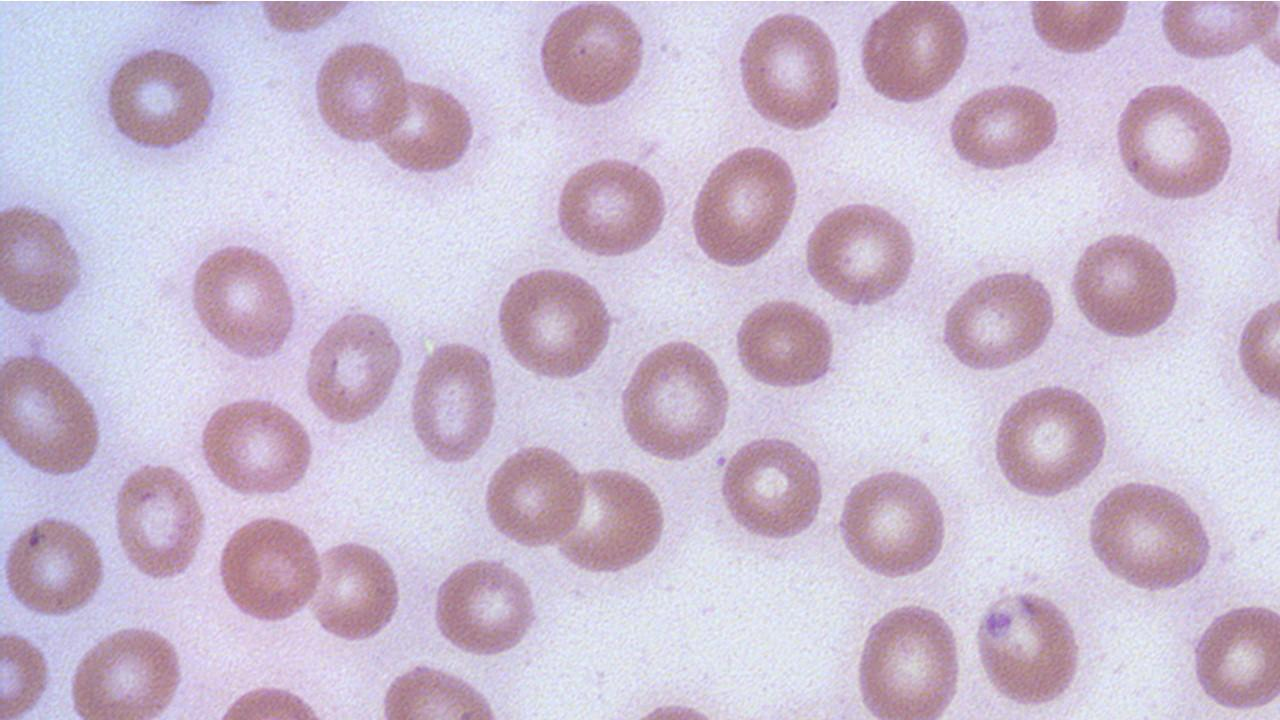RBC: (1083, 477, 1219, 594), (1110, 80, 1238, 204), (970, 582, 1088, 712), (617, 333, 732, 465), (184, 234, 300, 364), (686, 140, 800, 272), (733, 8, 848, 138), (989, 381, 1113, 501), (494, 262, 616, 383), (850, 596, 968, 718), (834, 464, 950, 584), (1065, 227, 1185, 343), (0, 349, 106, 480), (99, 42, 222, 154), (550, 462, 670, 576), (800, 197, 922, 309), (938, 263, 1060, 374), (534, 1, 653, 111), (550, 153, 670, 262), (196, 393, 318, 500), (854, 1, 974, 109), (302, 305, 406, 429), (716, 431, 828, 545), (214, 512, 326, 626), (64, 620, 188, 718), (428, 554, 542, 660), (112, 458, 208, 582), (480, 442, 588, 552), (408, 336, 500, 465), (0, 512, 109, 620), (308, 36, 412, 149), (370, 73, 479, 177), (946, 78, 1064, 174), (0, 196, 88, 320), (305, 536, 404, 646), (1187, 597, 1280, 714), (730, 297, 840, 392), (374, 658, 510, 718), (1154, 1, 1276, 64), (1023, 1, 1135, 61), (1234, 286, 1280, 414), (0, 624, 54, 718)
